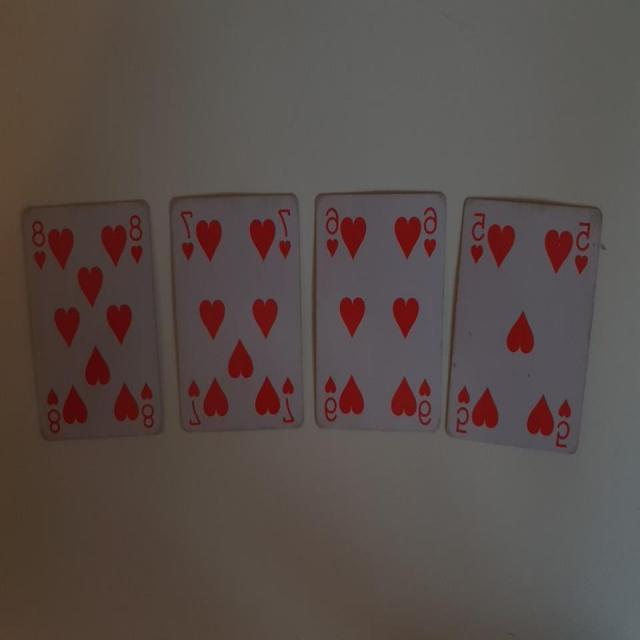5 of hearts: (443, 194, 610, 462)
6 of hearts: (310, 184, 448, 438)
7 of hearts: (166, 184, 306, 438)
8 of hearts: (19, 186, 167, 454)
